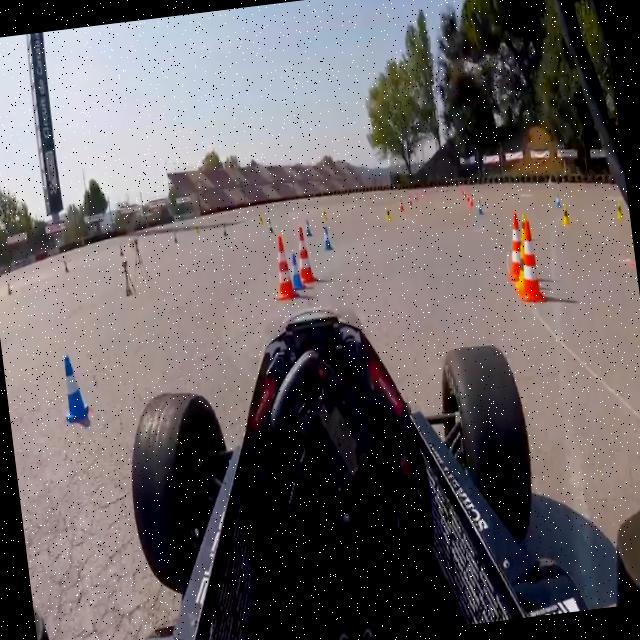blue_cone: (60, 352, 94, 424), (288, 252, 306, 291), (320, 224, 334, 252), (304, 220, 314, 238), (552, 192, 562, 209), (268, 218, 276, 236), (476, 200, 484, 218)
large_orange_cone: (512, 225, 544, 304), (501, 213, 529, 286), (269, 233, 296, 306), (296, 223, 318, 284)
orange_cone: (398, 198, 405, 212), (468, 194, 474, 210), (465, 190, 470, 202), (408, 196, 412, 206)
yellow_cone: (508, 244, 529, 290), (518, 215, 530, 242), (614, 198, 626, 222), (560, 206, 571, 230), (384, 206, 392, 224), (258, 214, 266, 230), (321, 208, 329, 224)
